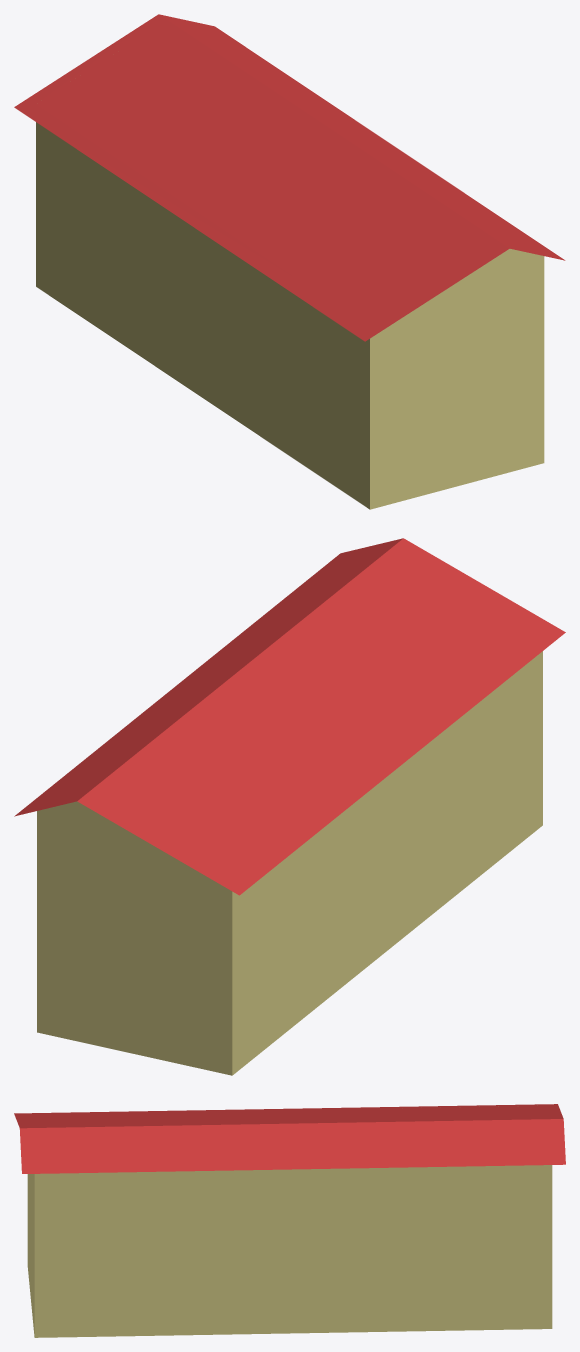
3 renders of one model, top to bottom at view 1: azimuth 30°, elevation 25°; view 2: azimuth 150°, elevation 25°; view 3: azimuth 270°, elevation 25°, orthographic. The views are drawn at different scales.
Size of the model in its own units: 8.35 by 21.04 by 8.08.
